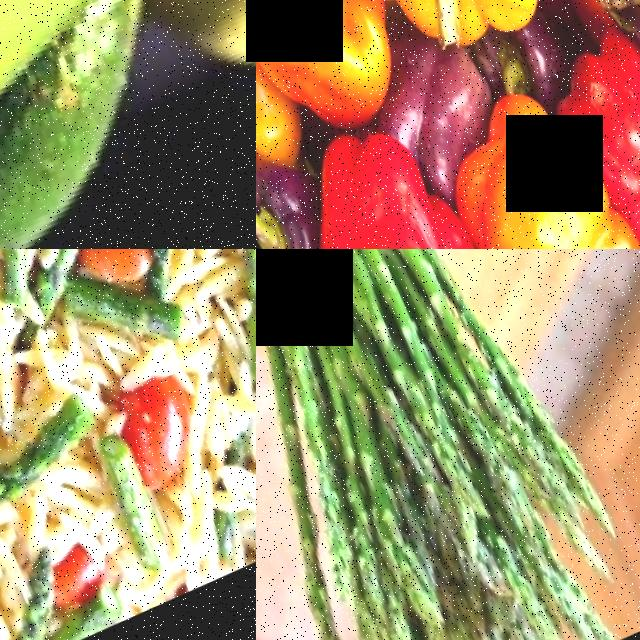asparagus: (256, 249, 606, 640), (86, 457, 183, 598), (0, 402, 103, 521), (0, 547, 79, 640)
avocado: (0, 0, 256, 219), (0, 40, 220, 249), (82, 0, 256, 149)
bell pepper: (405, 65, 640, 249), (266, 101, 531, 249), (339, 0, 570, 110), (532, 36, 640, 249), (256, 0, 416, 141)
